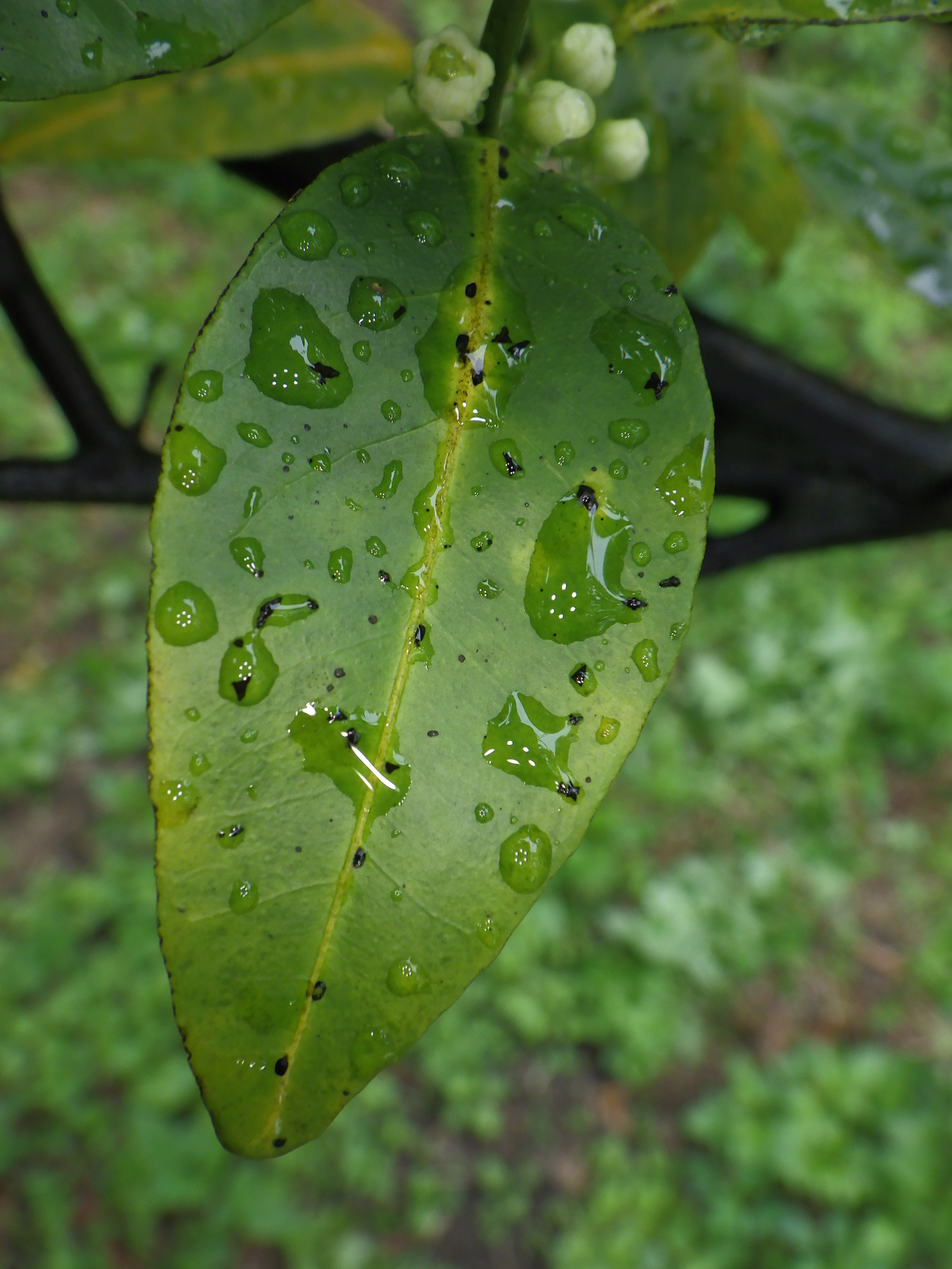Oily_Spot: (148, 123, 713, 1158)
